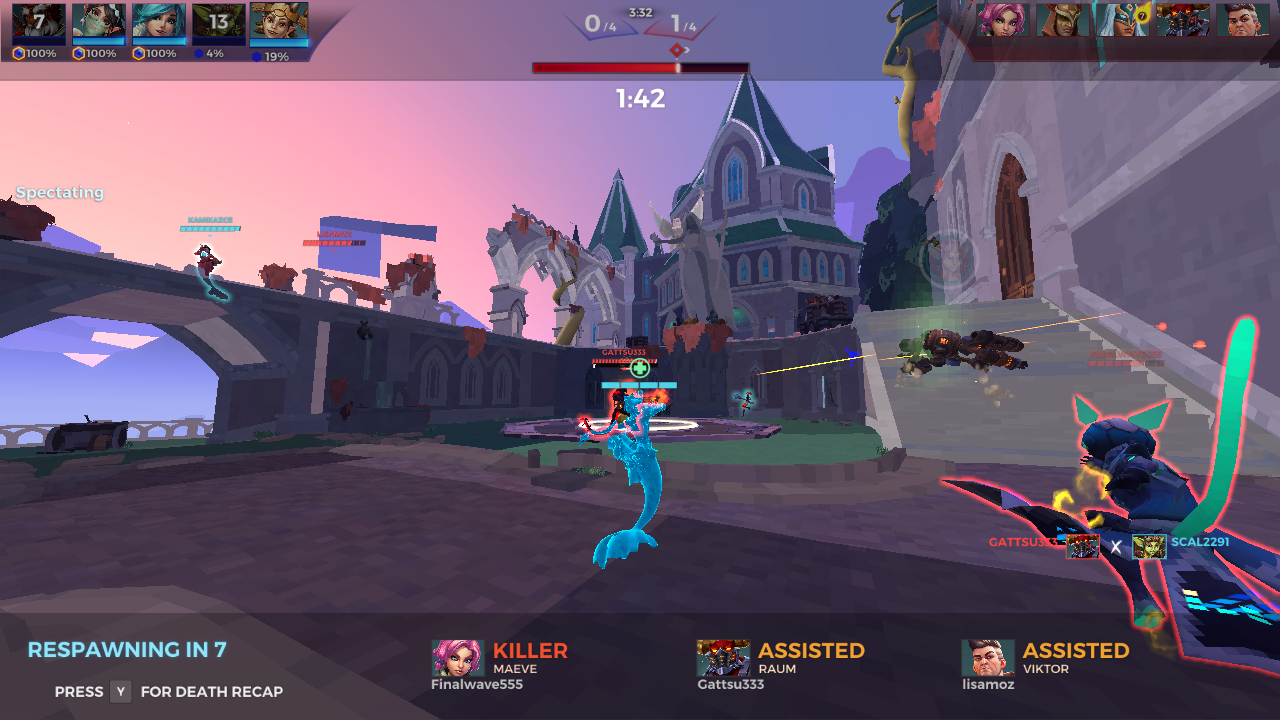model: (936, 380, 1280, 671), (580, 375, 663, 447)
